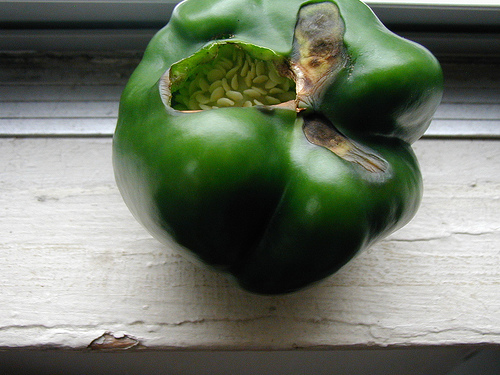capsicum: (111, 0, 445, 296)
